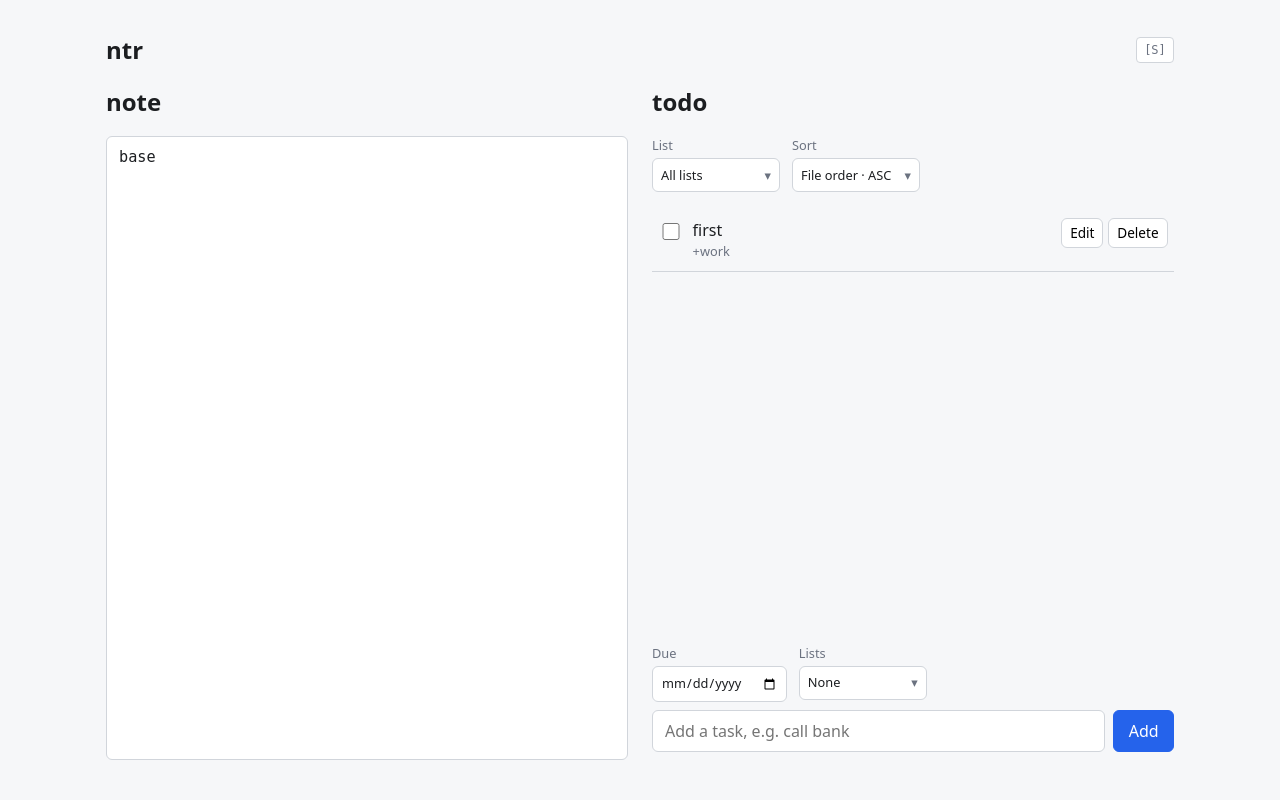
Scenario: approval across real panes › replaces the note diff on a changed preparation read and requires another choice
This screenshot has width=1280, height=800.
Type "unsubmitted draft +work" into the field named "New task" at (879, 731), box [652, 710, 1105, 752]
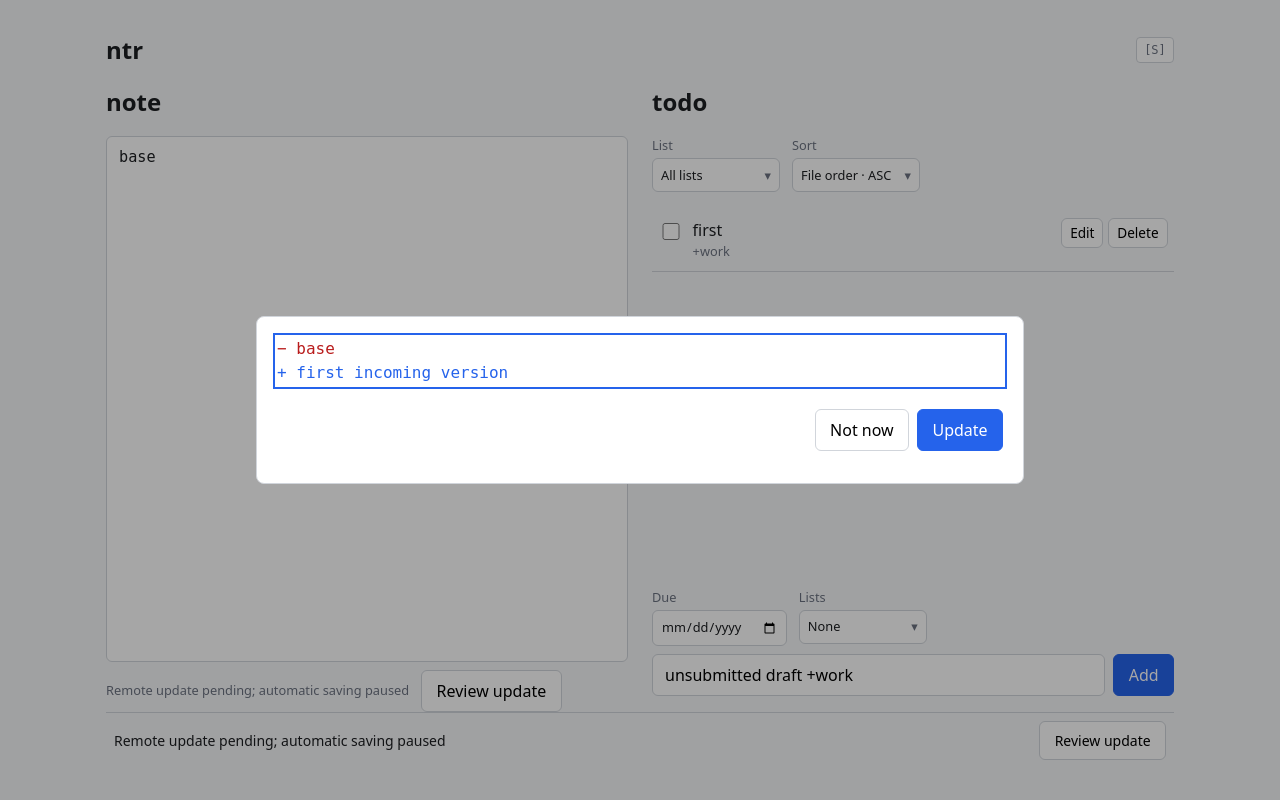
Check: the element named "Change details" shows "base", box [296, 339, 335, 358]
Check: the element named "Change details" shows "first incoming version", box [296, 363, 508, 382]
Click the button "Update" at (960, 430), box [917, 409, 1003, 451]
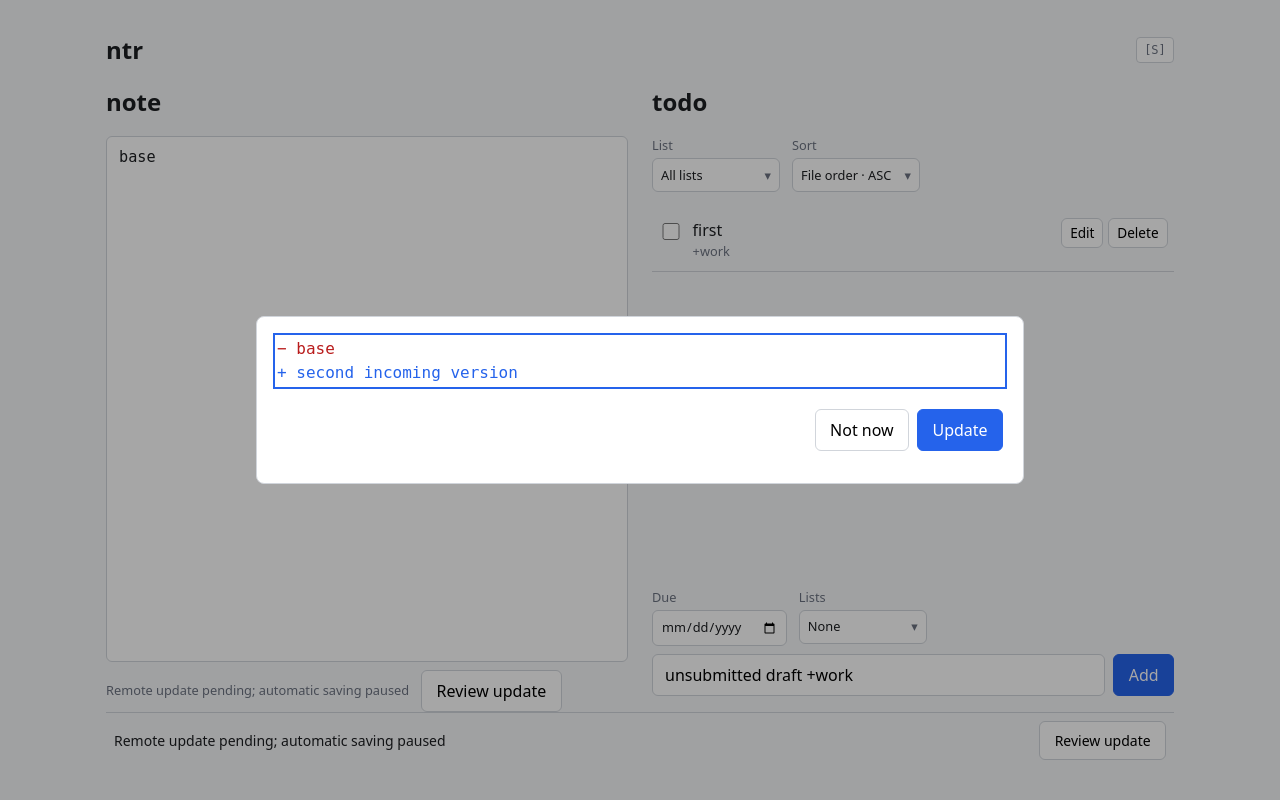
Check: the element named "Change details" shows "second incoming version", box [296, 363, 518, 382]
Click the button "Update" at (960, 430), box [917, 409, 1003, 451]
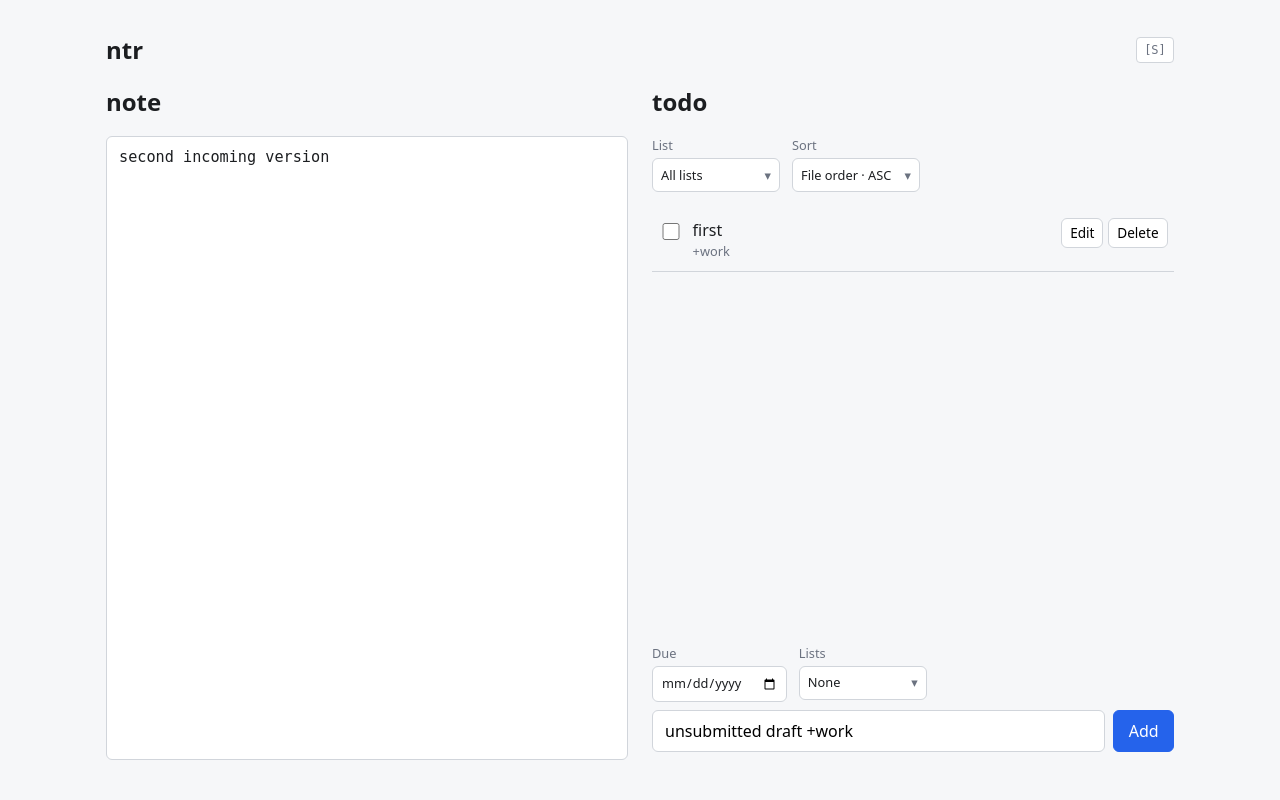
Check: the text box labelled "second incoming version" is shown, box [119, 148, 329, 166]
